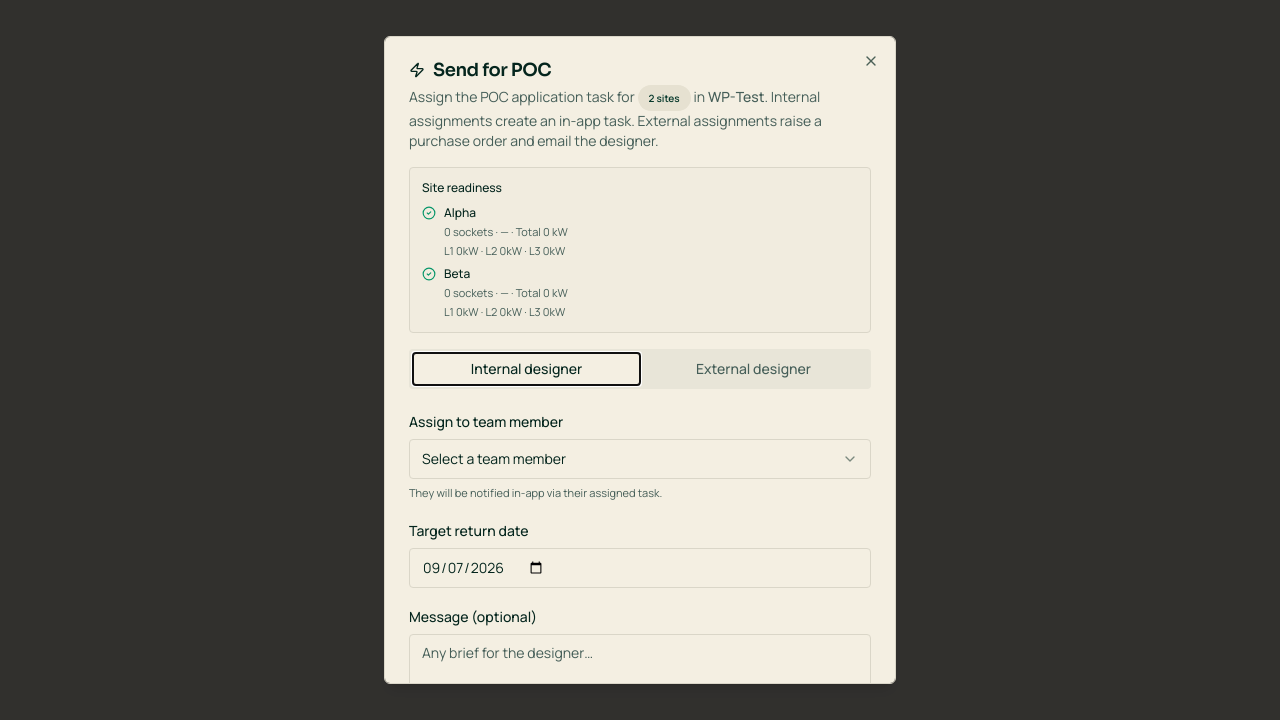
Scenario: SendForPocDialog › requires the review step before onConfirm fires (no auto-send)
Later steps or results of the test are not shown.
Click the tab "External designer" at (754, 369), box [640, 353, 867, 385]
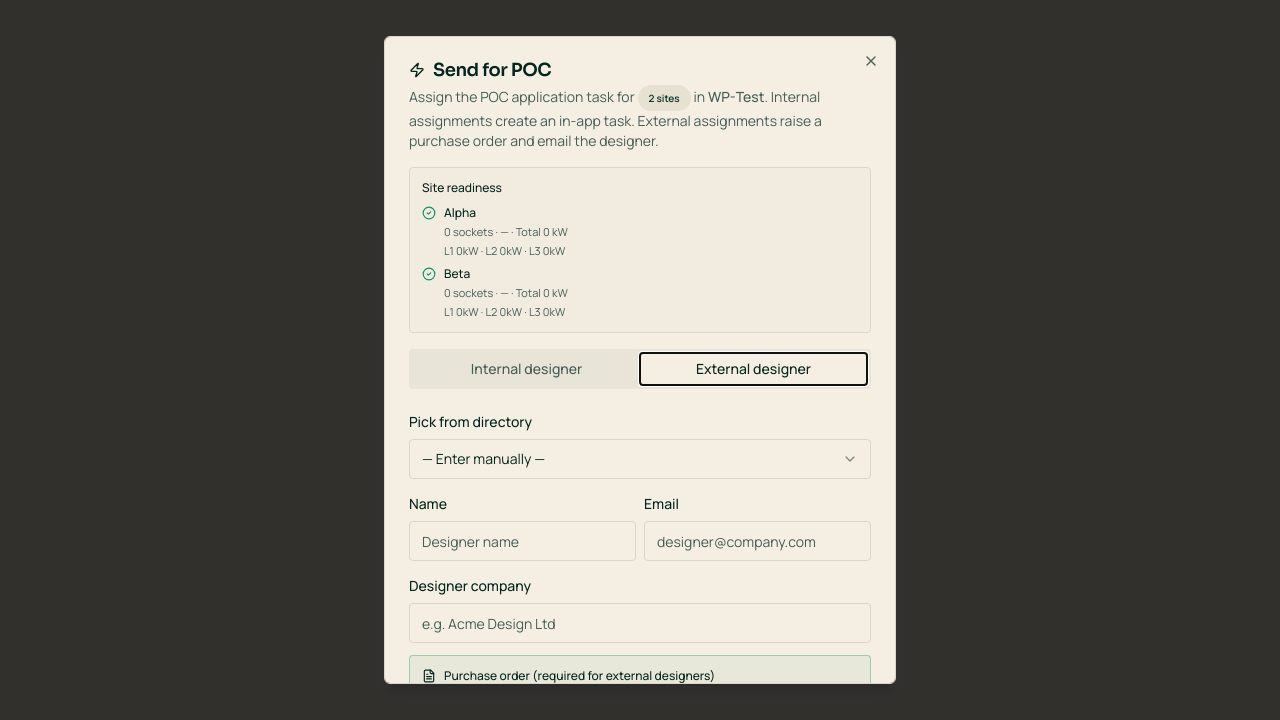
Type "d@x.com" into the field with placeholder "designer@company.com" at (758, 541), box [644, 521, 871, 561]
(page scrolled)
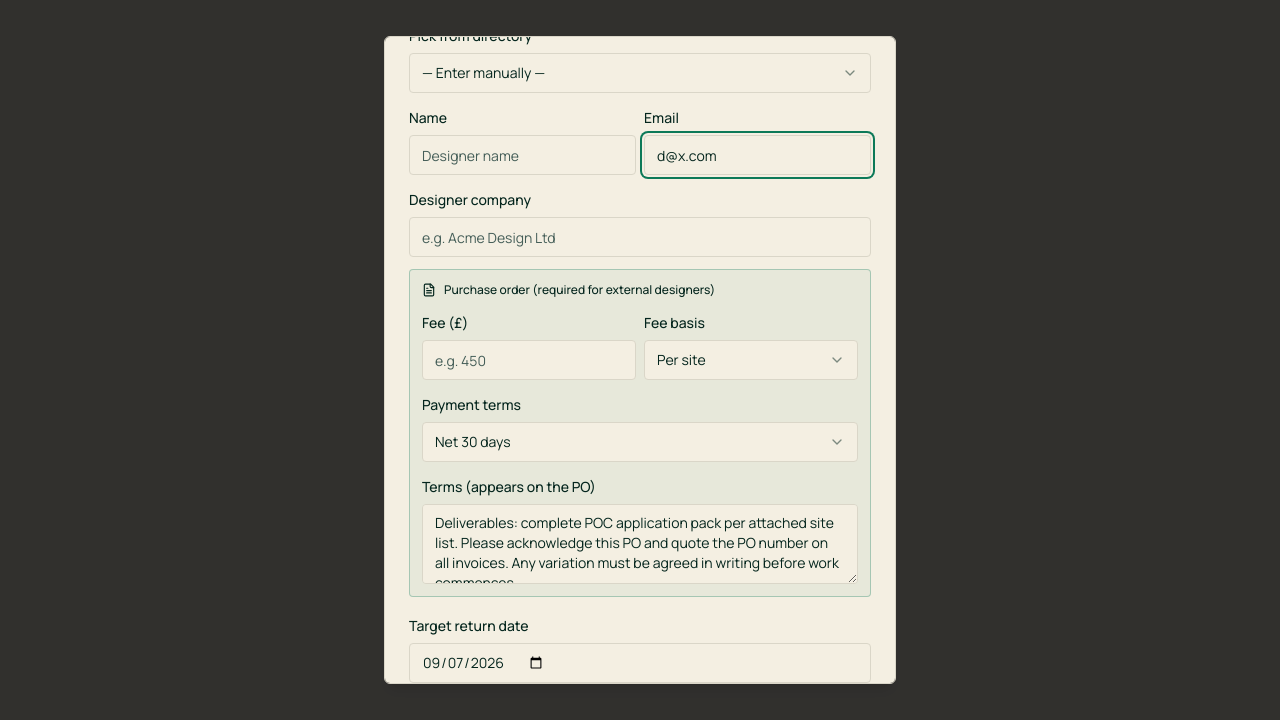
Type "300" into the number field with placeholder "e.g. 450" at (529, 360), box [422, 340, 636, 380]
(page scrolled)
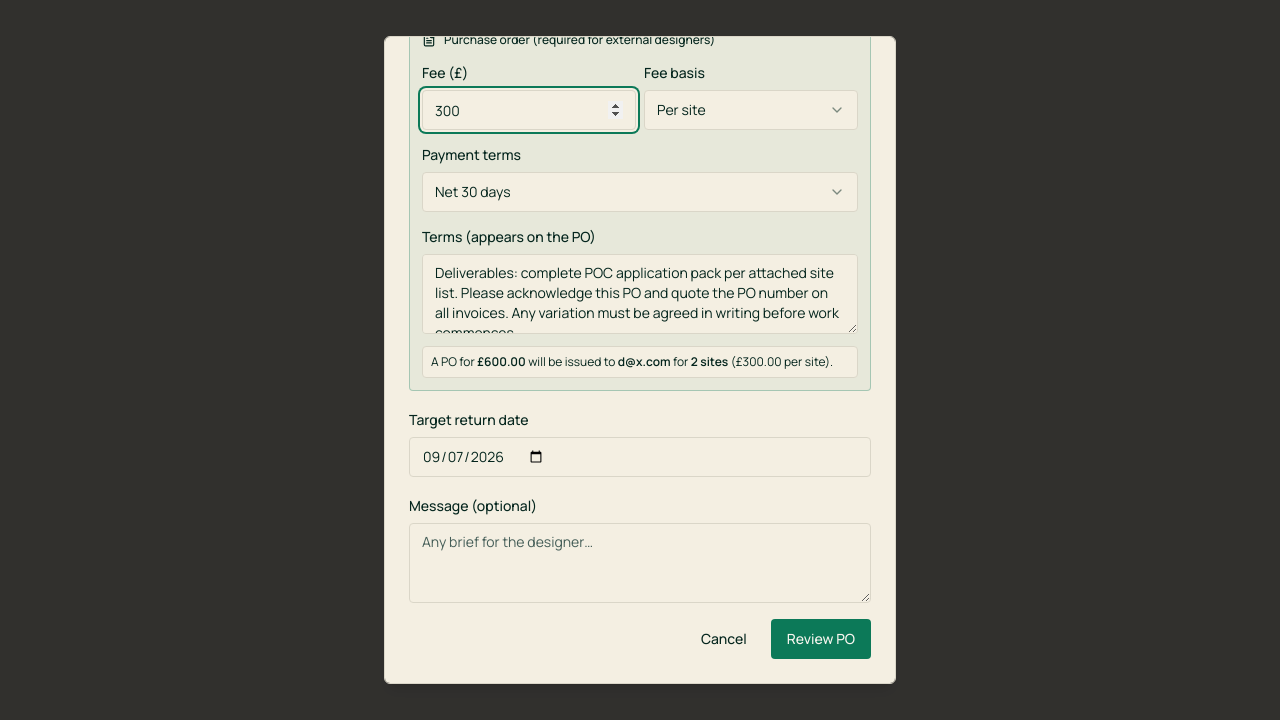
Click the button with test id "poc-next-btn" at (821, 639), box [771, 619, 871, 659]
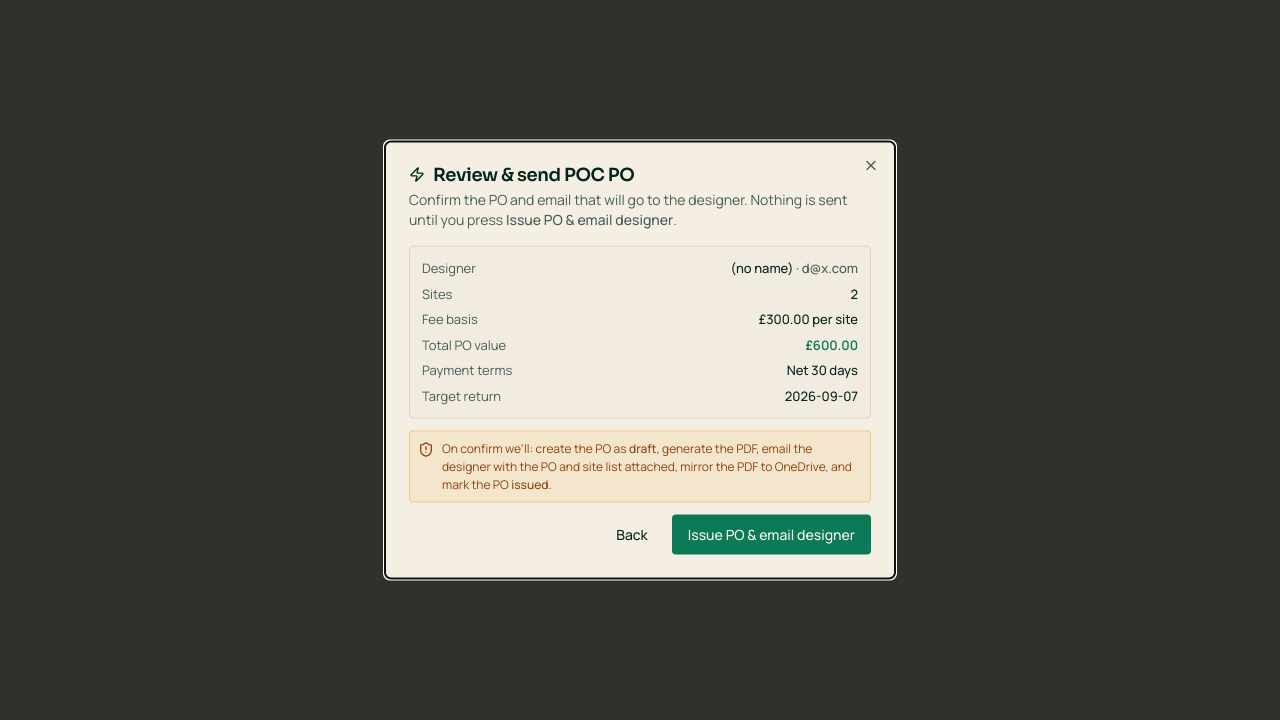
Check: the element with test id "poc-review-step" is shown, box [409, 246, 871, 554]
